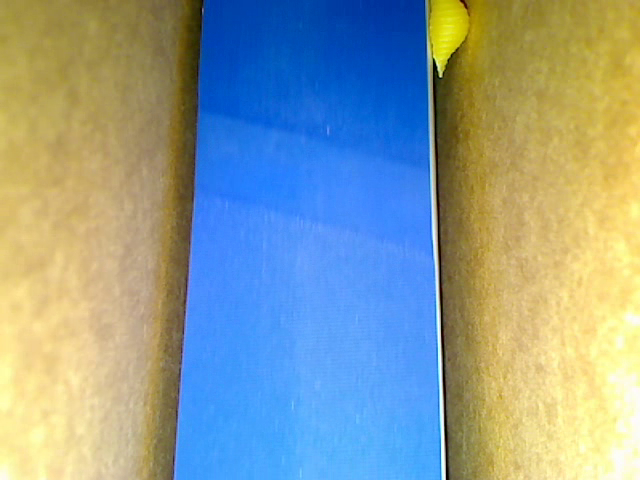shell: (430, 1, 471, 81)
